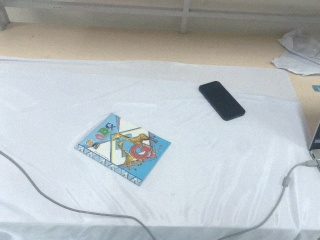book: (74, 113, 172, 187)
phone: (198, 81, 246, 122)
